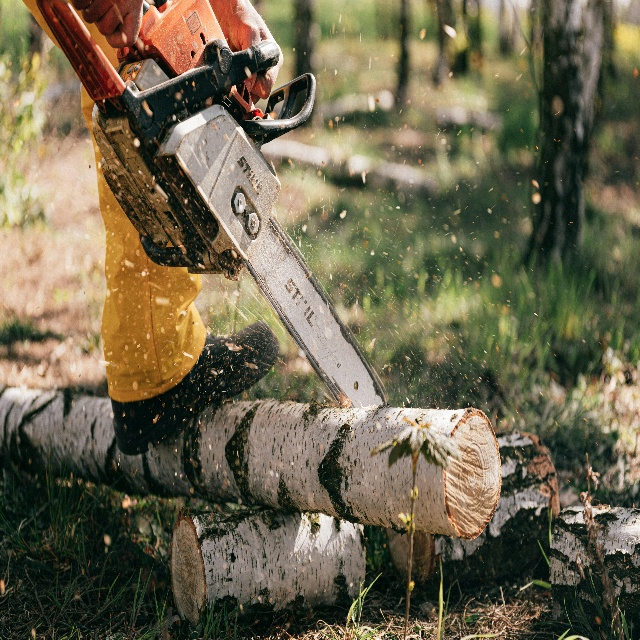Sin_guantes: (226, 0, 285, 105), (83, 0, 145, 47)
